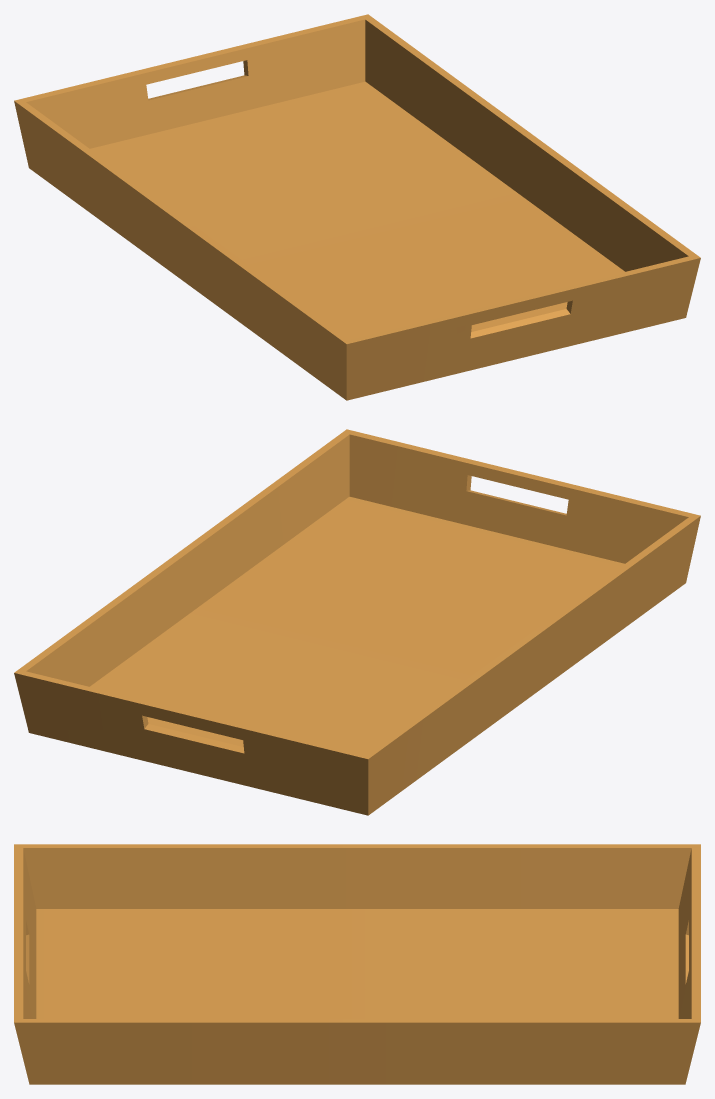
The model's file is FoodProp_4_1_A.fbx.
The picture shows the model from 3 angles, top to bottom: view 1: azimuth 30°, elevation 25°; view 2: azimuth 150°, elevation 25°; view 3: azimuth 270°, elevation 25°; orthographic projection. The views are drawn at different scales.
Visible parts, largest first — view 1: FoodProp_4_1_A; view 2: FoodProp_4_1_A; view 3: FoodProp_4_1_A.
Boxes of the visible parts, bbox=[...] form: FoodProp_4_1_A: bbox=[14, 14, 700, 400]; FoodProp_4_1_A: bbox=[14, 429, 700, 815]; FoodProp_4_1_A: bbox=[14, 844, 700, 1084].
Size of the model in its own units: 37.22 by 6.4 by 60.57.
